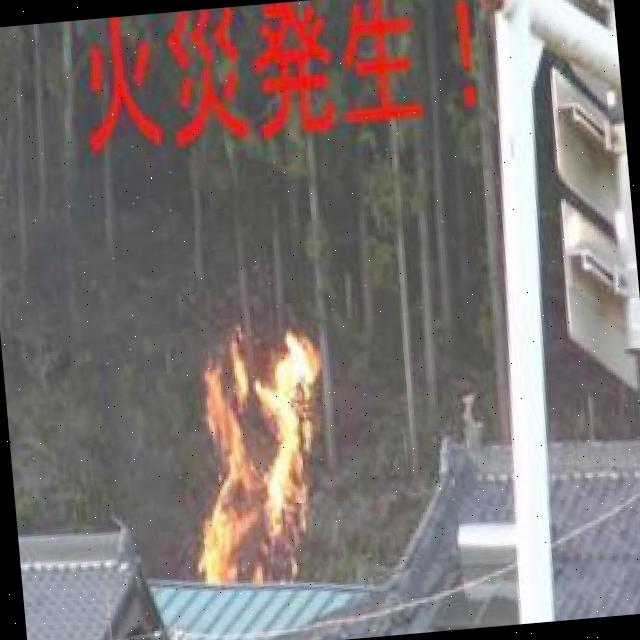fire: (180, 326, 358, 592)
